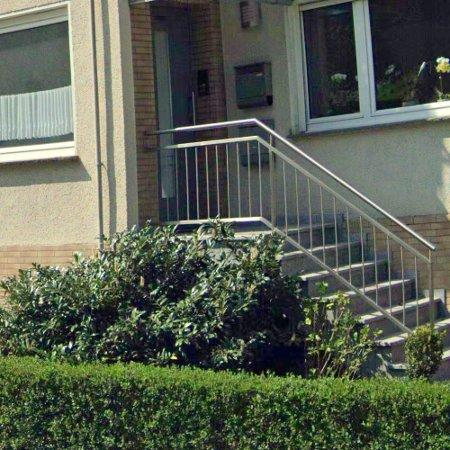stairs: (155, 119, 450, 379)
